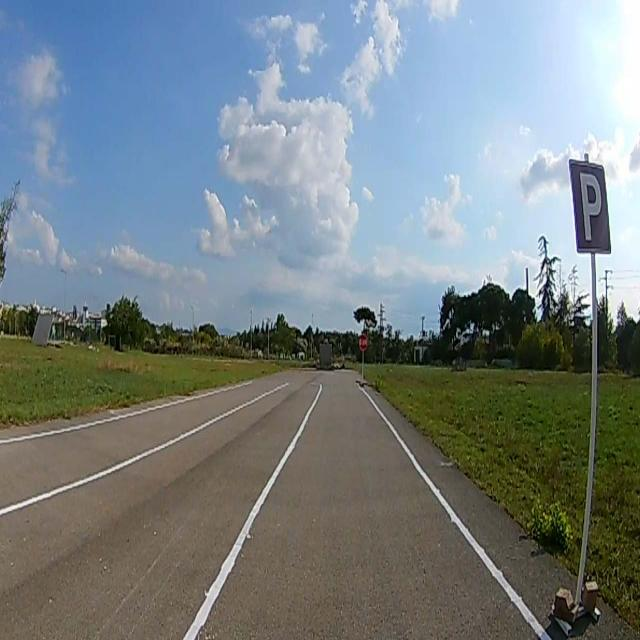park: (569, 158, 610, 252)
